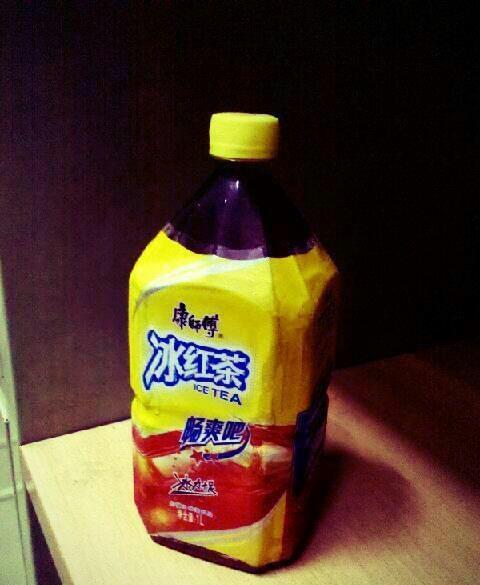iced_black_tea: (127, 100, 343, 562)
